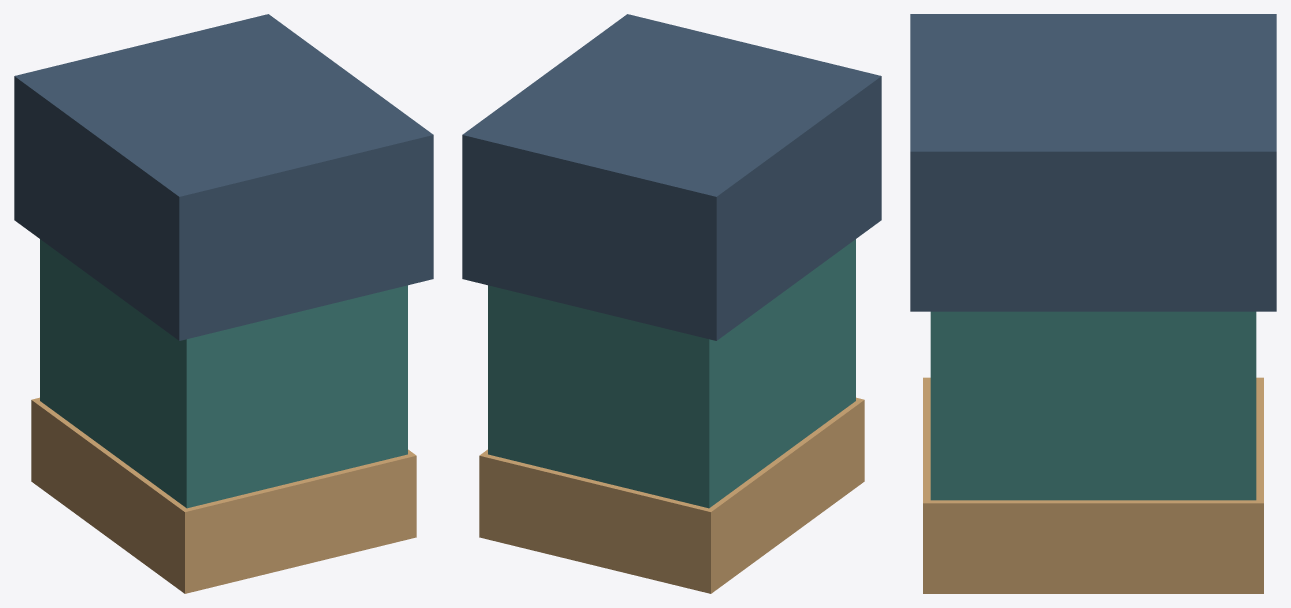
Rendered from upper_arm.glb.
3 views of the same model, side by side, from view 1: azimuth 30°, elevation 25°; view 2: azimuth 150°, elevation 25°; view 3: azimuth 270°, elevation 25° (orthographic). The views are drawn at different scales.
Size of the model in its own units: 0.192 by 0.2915 by 0.216.
1 material, 1 textured.
